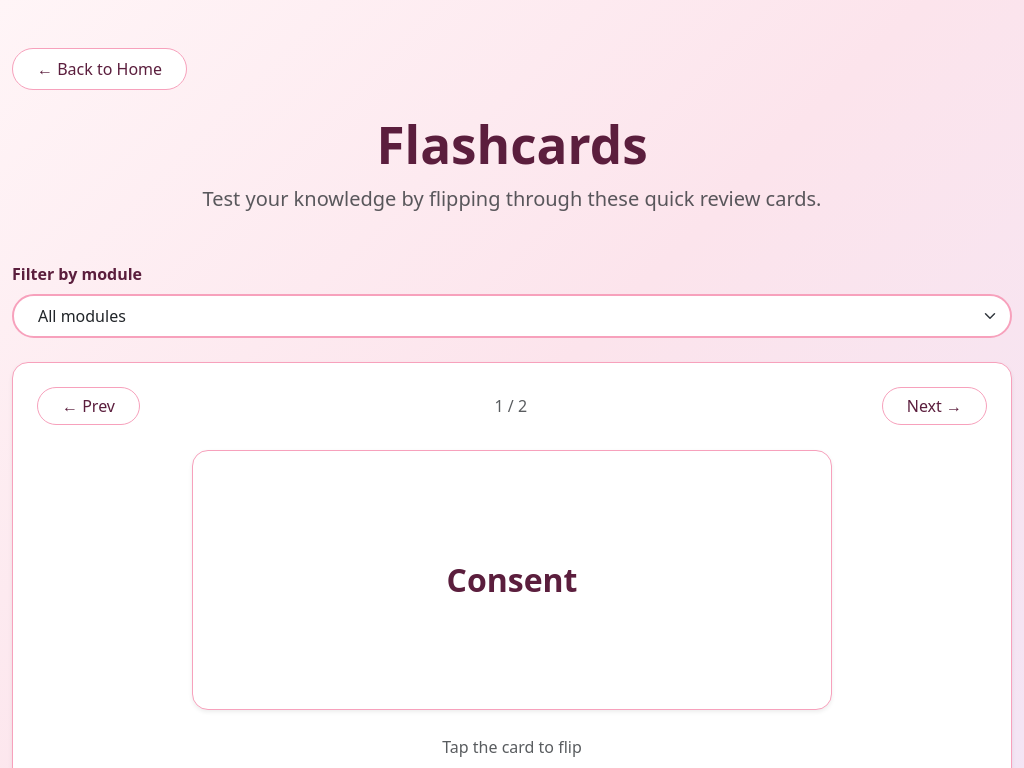
Scenario: Flashcards page — card display › flips to show back text when the card button is clicked
Expected: the text "Consent" is shown, [446,558,578,600]
// The flip button is the border-0 bg-transparent button wrapping the card
Click the button "Consent": {"x": 94, "y": 580} [37,448,987,710]
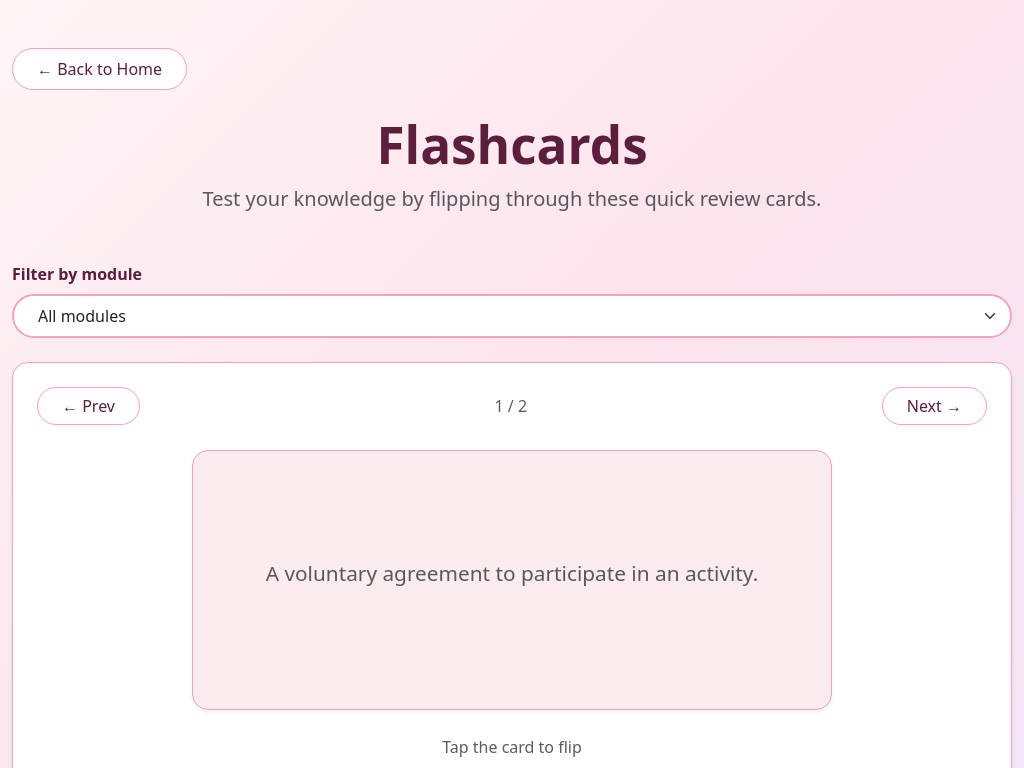
Result: the text "A voluntary agreement to participate in an activity." is shown at [266,559,758,587]
